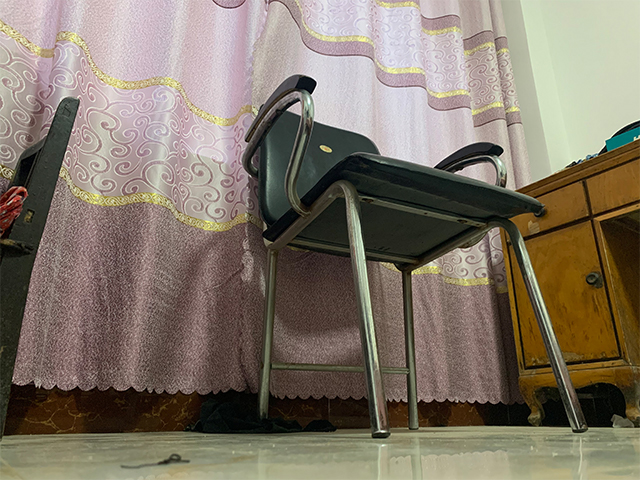cabinet: (499, 137, 640, 427)
curtain: (1, 1, 533, 407)
stool: (241, 74, 591, 440)
